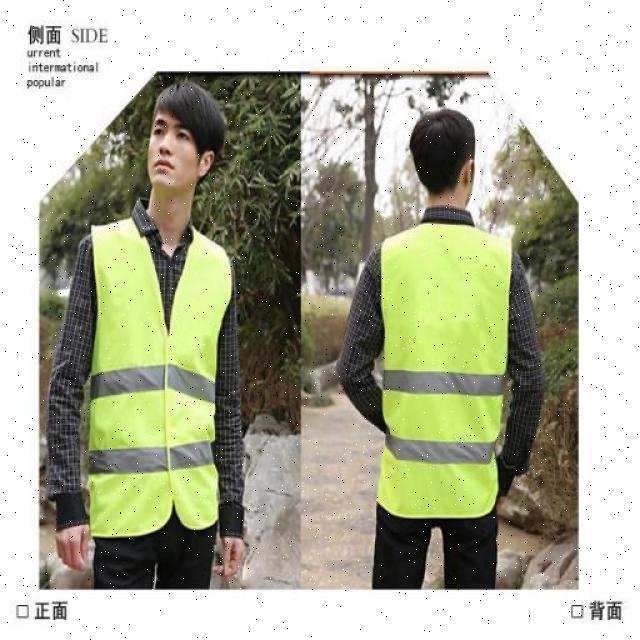Vest: (377, 226, 509, 522)
